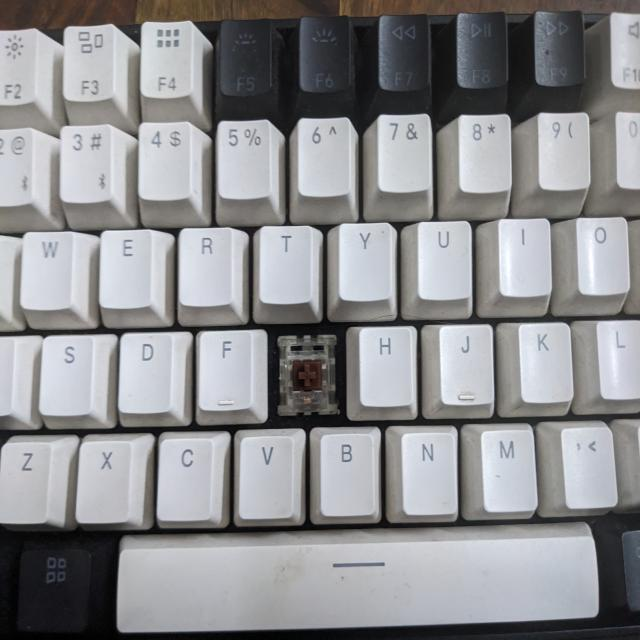key-switch: (276, 332, 341, 418)
